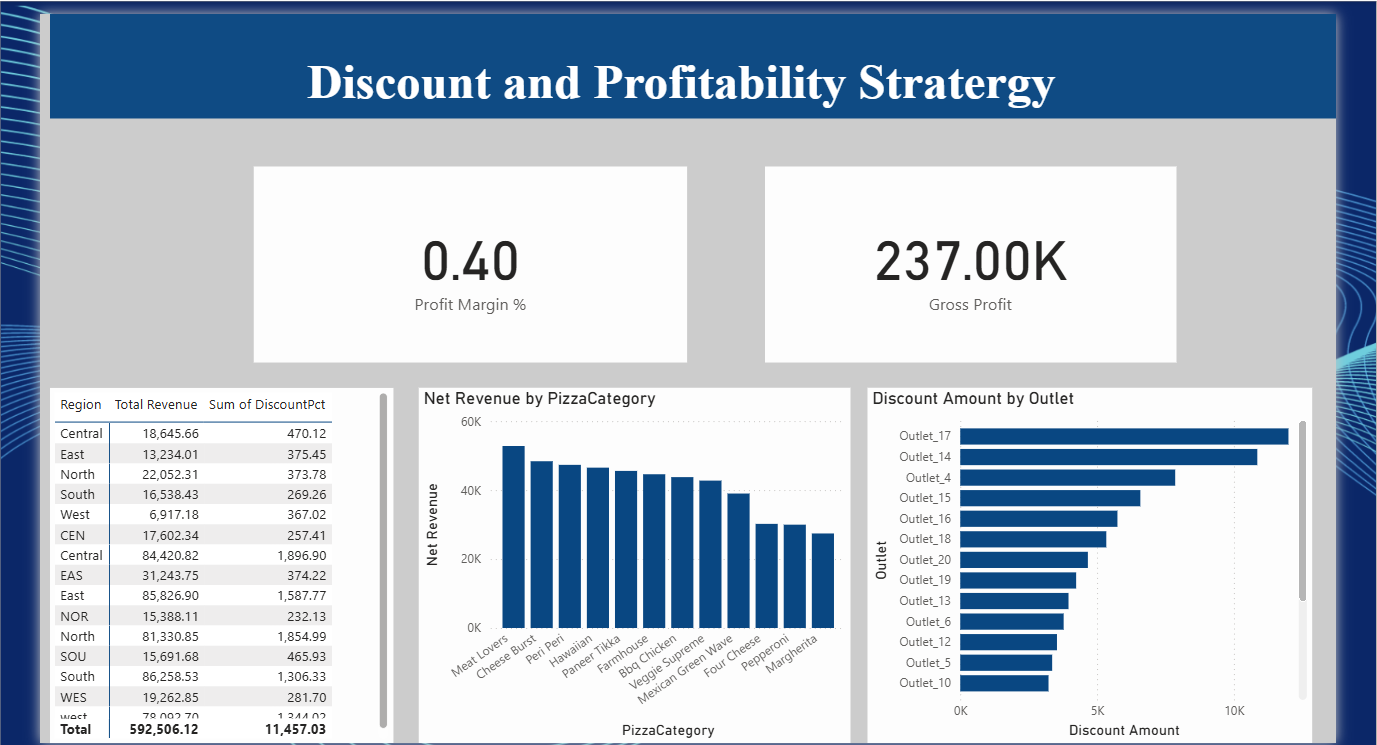

The page's visual inventory and layout, read from the dashboard file:
{"tool":"powerbi","page":{"name":"Page 4","canvas":[1280,720],"ordinal":3},"visuals":[{"type":"textbox","box":[9.6,0,1270.7,102.9],"z":0},{"type":"barChart","fields":{"Category":["pizza_sales_messy_1000.Outlet"],"Y":["pizza_sales_messy_1000.Discount Amount"]},"box":[817.8,369.1,439.1,351.3],"z":2000},{"type":"card","fields":{"Values":["pizza_sales_messy_1000.Gross Profit"]},"box":[716.3,150.9,406.2,193.5],"z":3000},{"type":"card","fields":{"Values":["pizza_sales_messy_1000.Profit Margin %"]},"box":[211.3,150.9,365,193.5],"z":4000},{"type":"lineClusteredColumnComboChart","fields":{"Category":["pizza_sales_messy_1000.PizzaCategory"],"Y":["pizza_sales_messy_1000.Net Revenue"]},"box":[374.6,369.1,426.8,351.3],"z":5000},{"type":"pivotTable","fields":{"Rows":["pizza_sales_messy_1000.Region"],"Values":["pizza_sales_messy_1000.Total Revenue","Sum(pizza_sales_messy_1000.DiscountPct)"]},"box":[9.6,369.1,338.9,351.3],"z":5001}]}

Visuals, with their boxes on the page's 1280x720 design canvas (x1, y1, x2, y2). These are canvas units, not pixel positions in the 1377x745 screenshot, which may show the page scaled, cropped or inside an application window:
textbox: (x1=10, y1=0, x2=1280, y2=103)
barChart - pizza_sales_messy_1000.Outlet x pizza_sales_messy_1000.Discount Amount: (x1=818, y1=369, x2=1257, y2=720)
card - pizza_sales_messy_1000.Gross Profit: (x1=716, y1=151, x2=1122, y2=344)
card - pizza_sales_messy_1000.Profit Margin %: (x1=211, y1=151, x2=576, y2=344)
lineClusteredColumnComboChart - pizza_sales_messy_1000.PizzaCategory x pizza_sales_messy_1000.Net Revenue: (x1=375, y1=369, x2=801, y2=720)
pivotTable - pizza_sales_messy_1000.Region x pizza_sales_messy_1000.Total Revenue: (x1=10, y1=369, x2=348, y2=720)
